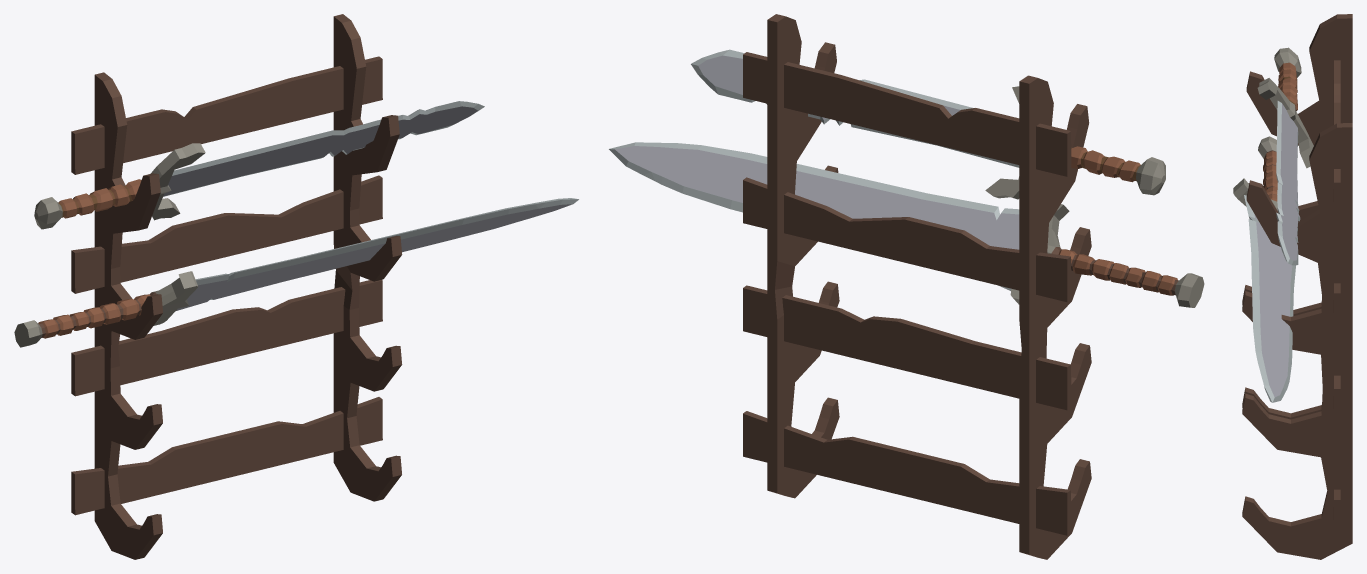
File: Dungeon_Sword_WallMount.glb
3 renders of one model, left to right at view 1: azimuth 30°, elevation 25°; view 2: azimuth 150°, elevation 25°; view 3: azimuth 270°, elevation 25°, orthographic. The views are drawn at different scales.
Visible parts, largest first — view 1: Sword_WallMount; view 2: Sword_WallMount; view 3: Sword_WallMount.
Part boxes in pixels (x1,y1,x2,y2): Sword_WallMount: [14, 14, 578, 559]; Sword_WallMount: [609, 14, 1204, 559]; Sword_WallMount: [1233, 14, 1352, 559].
Size of the model in its own units: 1.07 by 0.8471 by 0.2117.
Materials: 1 (1 with a texture image).
